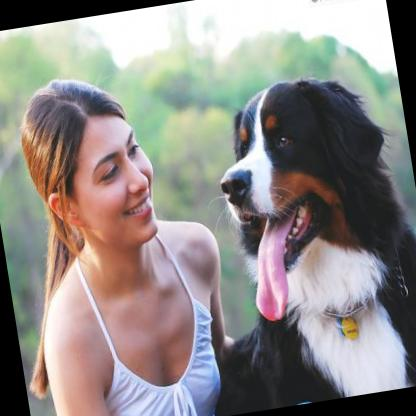Bernese_mountain_dog: (161, 59, 416, 415)
